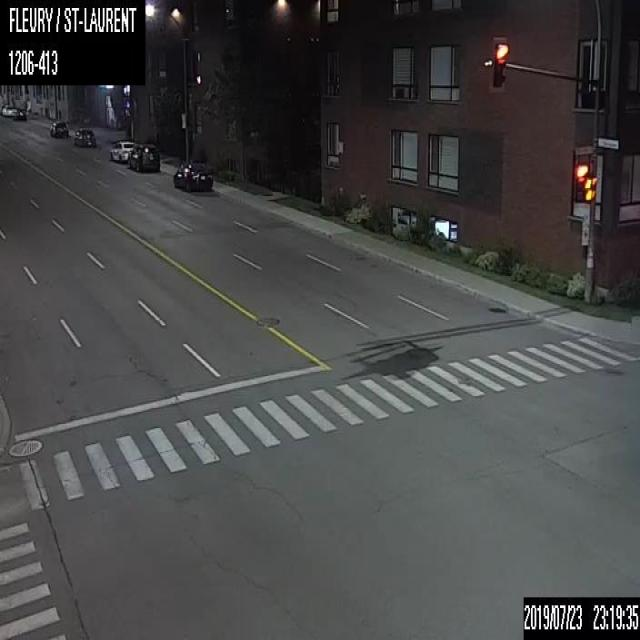vehicle: (172, 157, 212, 191), (129, 143, 161, 172), (108, 140, 134, 161), (72, 127, 94, 148), (49, 120, 69, 139), (13, 105, 27, 122), (2, 104, 16, 115)
